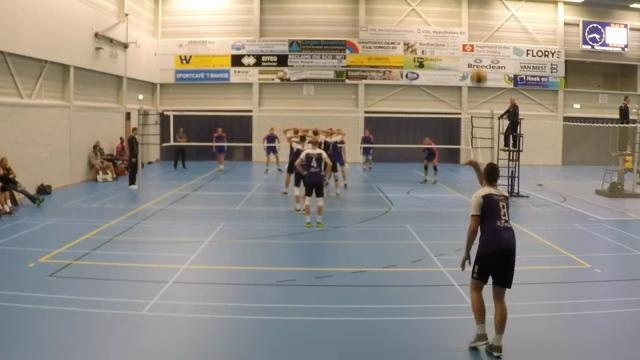battuta: (452, 154, 519, 359)
